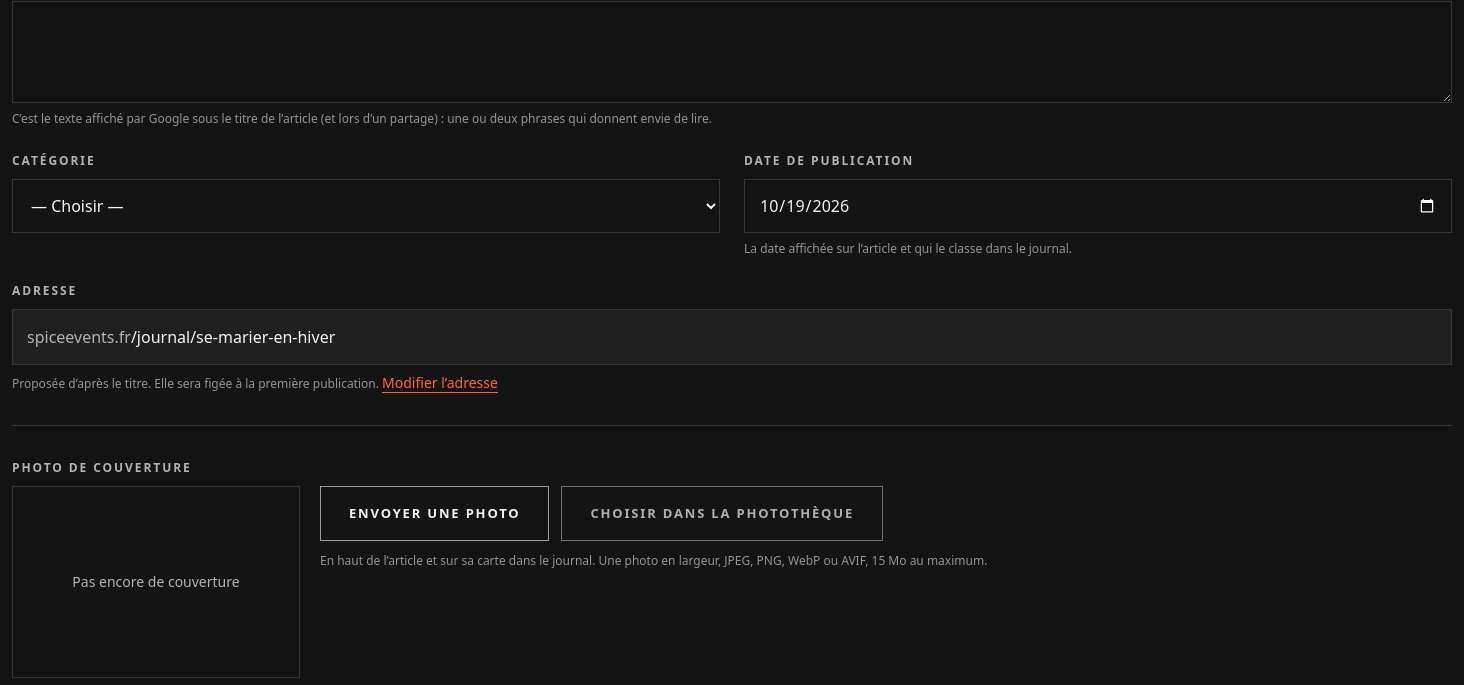
Test case: EditeurArticle — adresse › modifiée à la main, elle ne suit plus le titre ; on peut reprendre l’adresse proposée
(page scrolled)
Click the button "Modifier l’adresse".
click(440, 383)  # box [382,373,498,393]
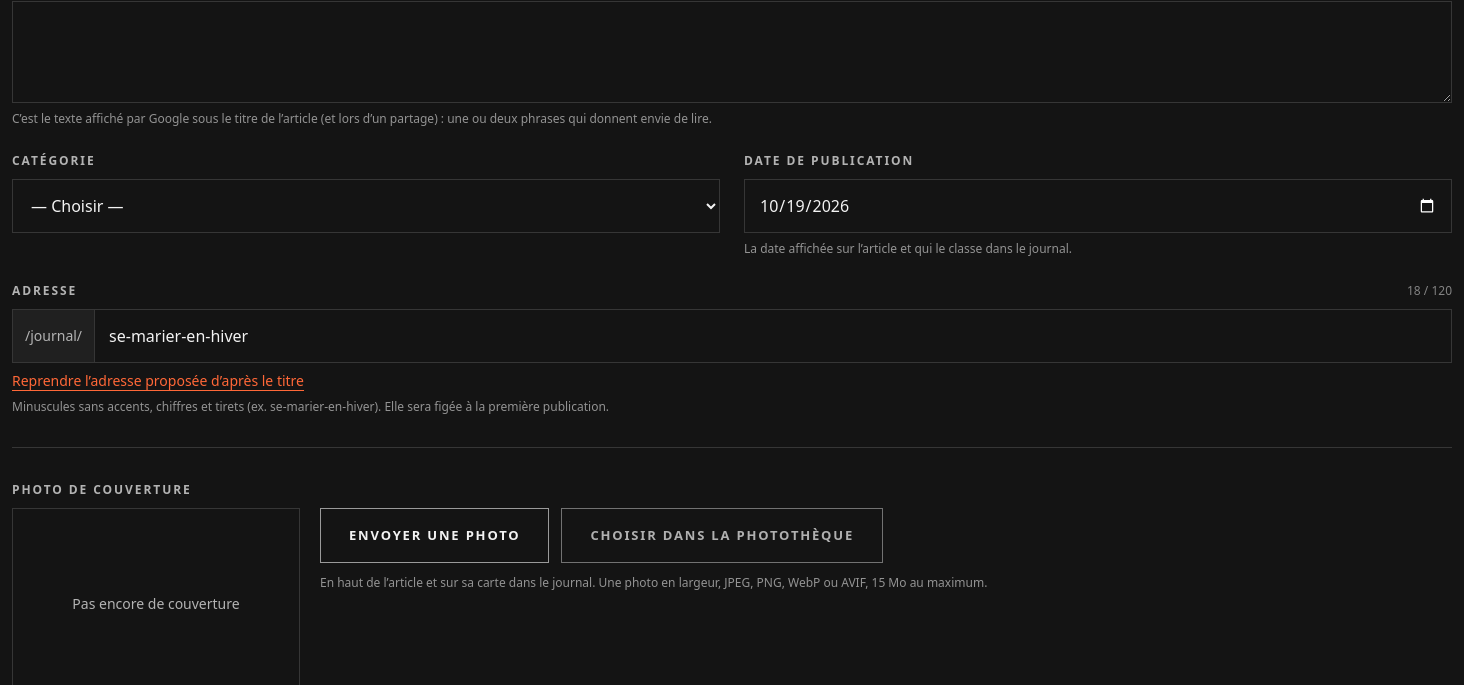
Replace the text in the field labelled "Adresse" with "Mon Adresse" at (773, 336), box [94,309,1452,363]
(page scrolled)
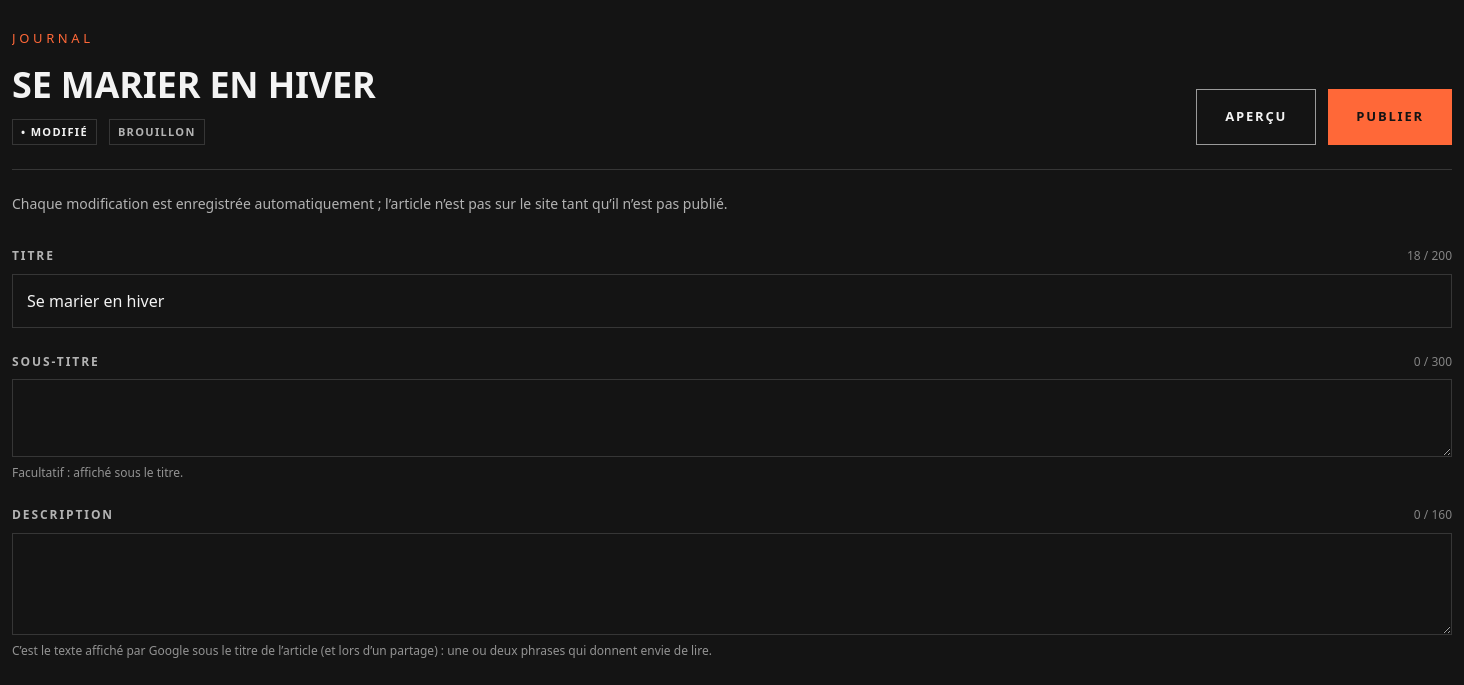
Replace the text in the field labelled "Titre" with "Autre titre" at (732, 301), box [12,274,1452,328]
(page scrolled)
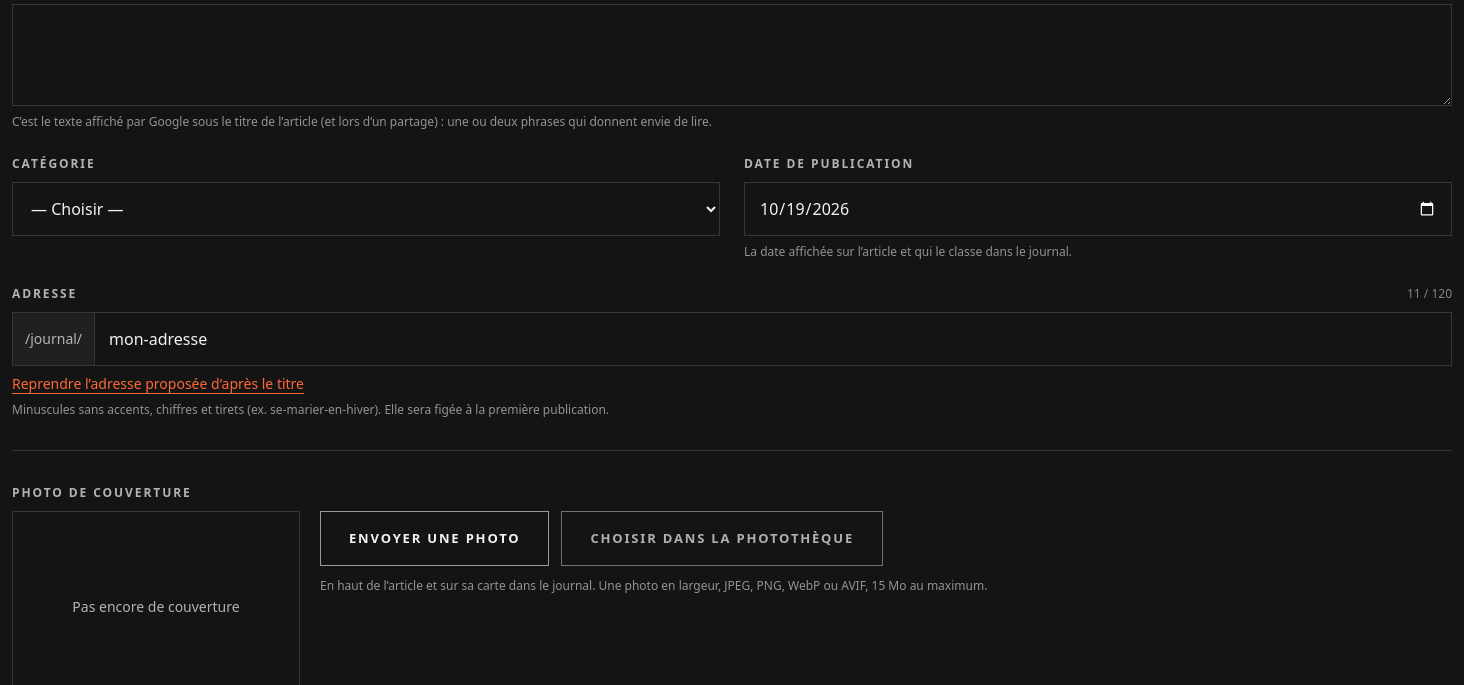
Expected: the field labelled "Adresse" holds "mon-adresse", [94,312,1452,366]
Click the button "Reprendre l’adresse proposée d’après le titre".
click(158, 384)  # box [12,374,304,394]
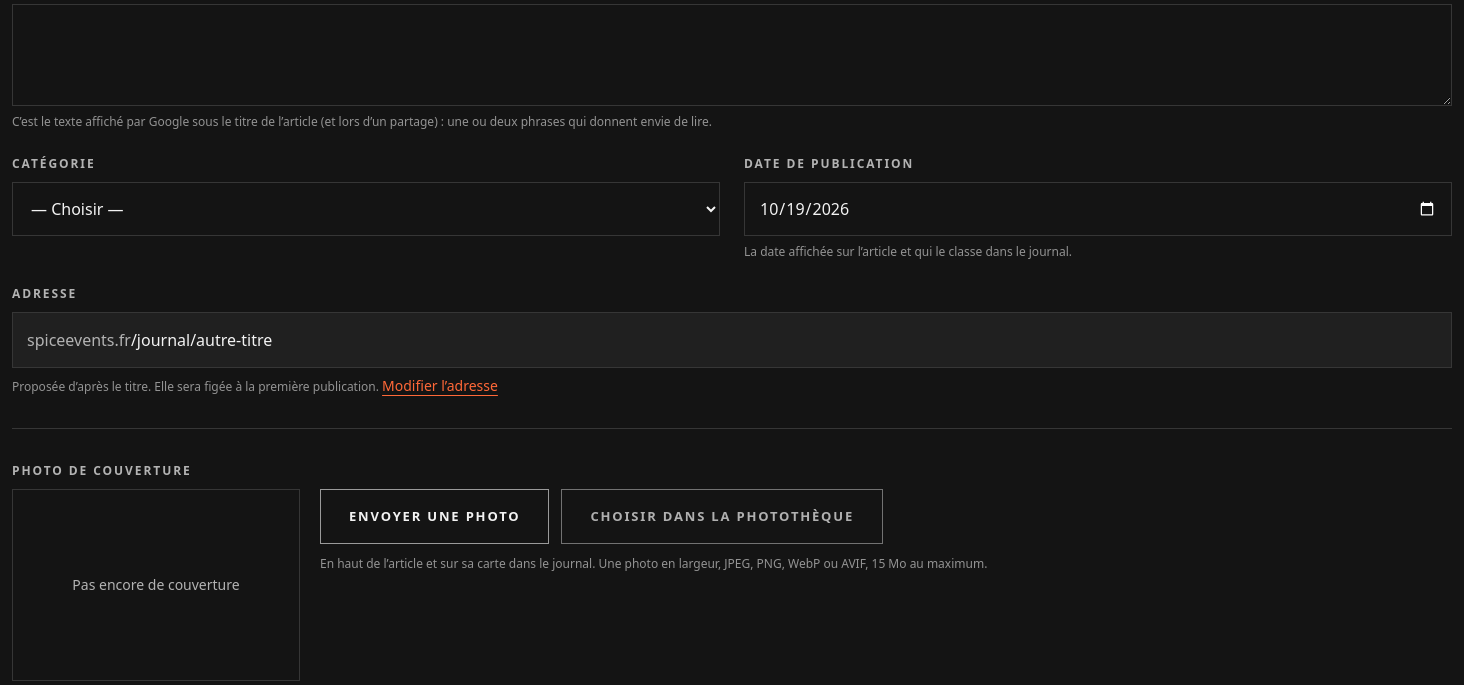
Expected: the text "/journal/autre-titre" is shown, [131,329,272,351]
